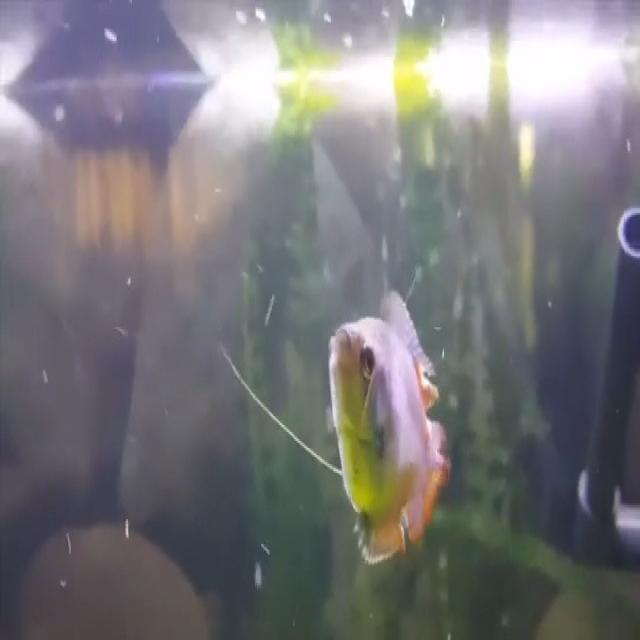fish: (328, 290, 455, 565)
